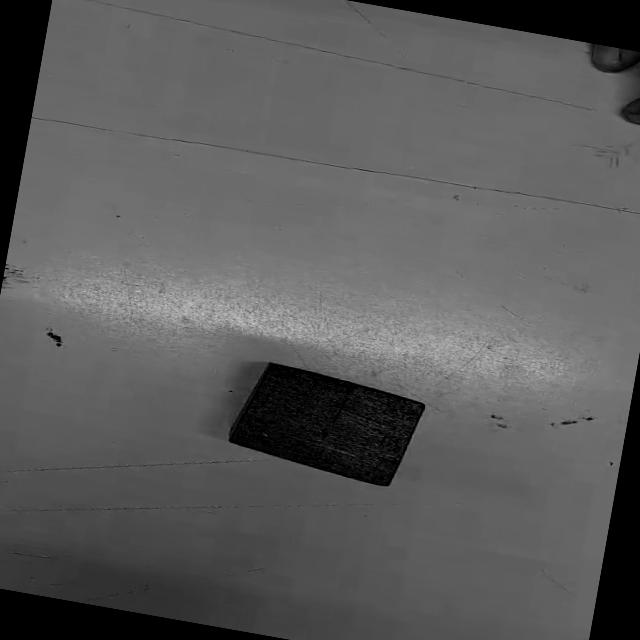bcube: (220, 354, 432, 492)
